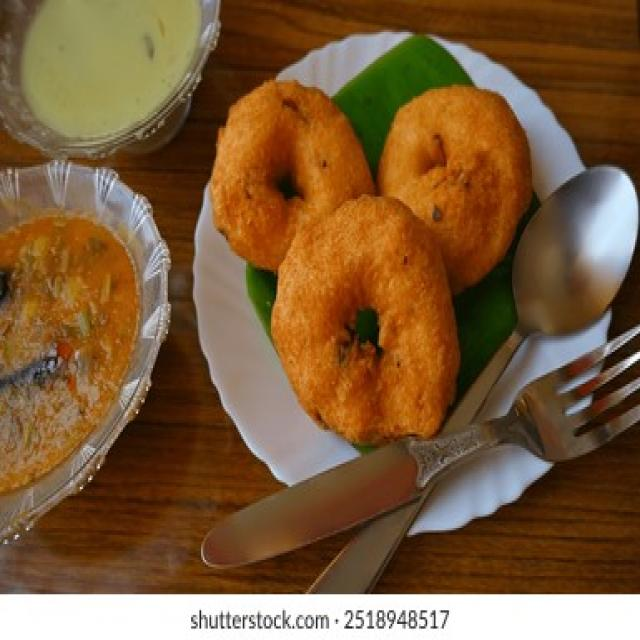MEDU VADA: (271, 194, 459, 441), (377, 85, 530, 290), (209, 80, 374, 270)
